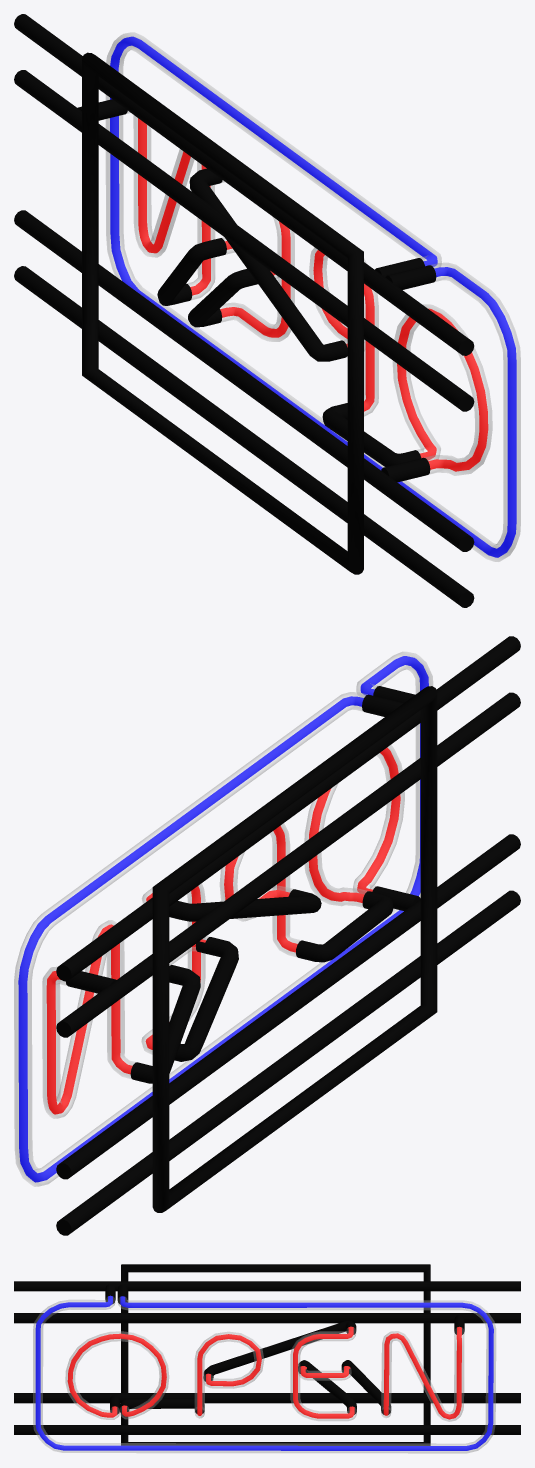
Rendered from neon_sign.glb.
3 renders of one model, top to bottom at view 1: azimuth 30°, elevation 25°; view 2: azimuth 150°, elevation 25°; view 3: azimuth 270°, elevation 25°, orthographic. The views are drawn at different scales.
Visible parts, largest first — view 1: Text.001, NeonBlue.001, NeonRed.001; view 2: Text.001, NeonBlue.001, NeonRed.001; view 3: Text.001, NeonBlue.001, NeonRed.001.
Boxes of the visible parts, bbox=[...] form: Text.001: bbox=[14, 14, 520, 607]; NeonBlue.001: bbox=[110, 36, 516, 557]; NeonRed.001: bbox=[138, 118, 488, 471]; Text.001: bbox=[14, 636, 520, 1235]; NeonBlue.001: bbox=[18, 656, 428, 1182]; NeonRed.001: bbox=[46, 747, 400, 1114]; Text.001: bbox=[14, 1264, 520, 1453]; NeonBlue.001: bbox=[35, 1295, 493, 1450]; NeonRed.001: bbox=[67, 1326, 461, 1419].
Bounding box in the file's own units: 0.2486 × 0.8008 × 2.
